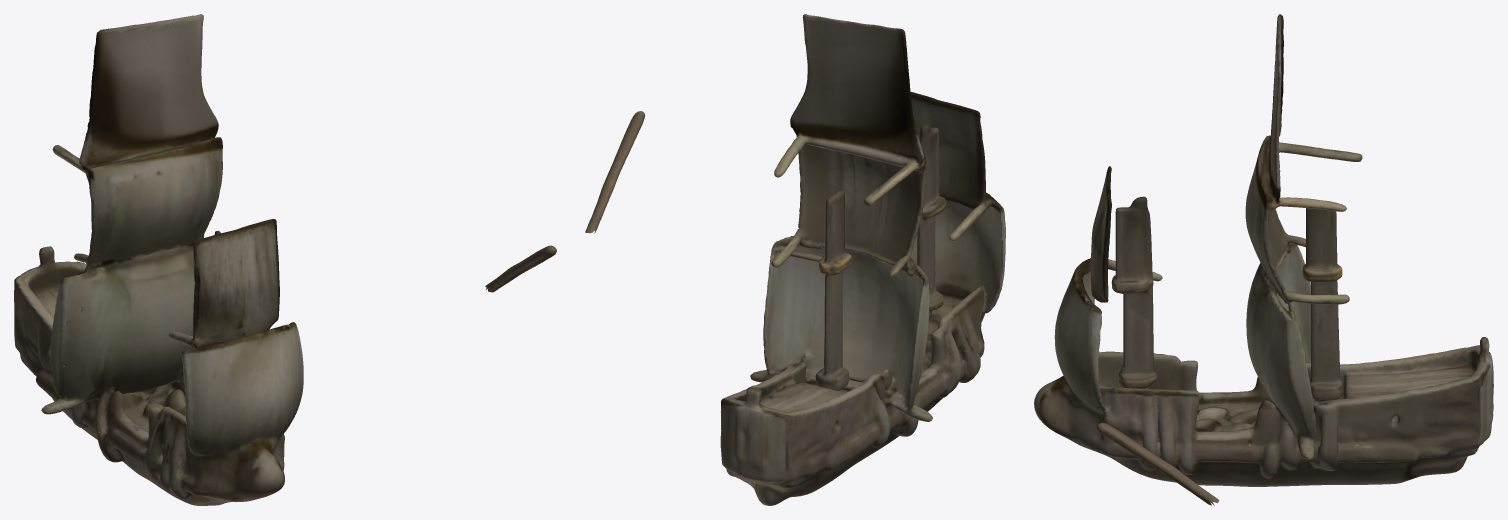
Rendered from ship-model-karasancak-2yelken.glb.
3 views of the same model, side by side, from view 1: azimuth 30°, elevation 25°; view 2: azimuth 150°, elevation 25°; view 3: azimuth 270°, elevation 25° (orthographic). The views are drawn at different scales.
Parts seen in each view (by area): view 1: mesh_node; view 2: mesh_node; view 3: mesh_node.
Part boxes in pixels (<box>): mesh_node: <box>14,14,556,505</box>; mesh_node: <box>585,14,1005,505</box>; mesh_node: <box>1034,14,1493,505</box>.
Size of the model in its own units: 0.3614 by 0.3786 by 0.3549.
1 material, 1 textured.
